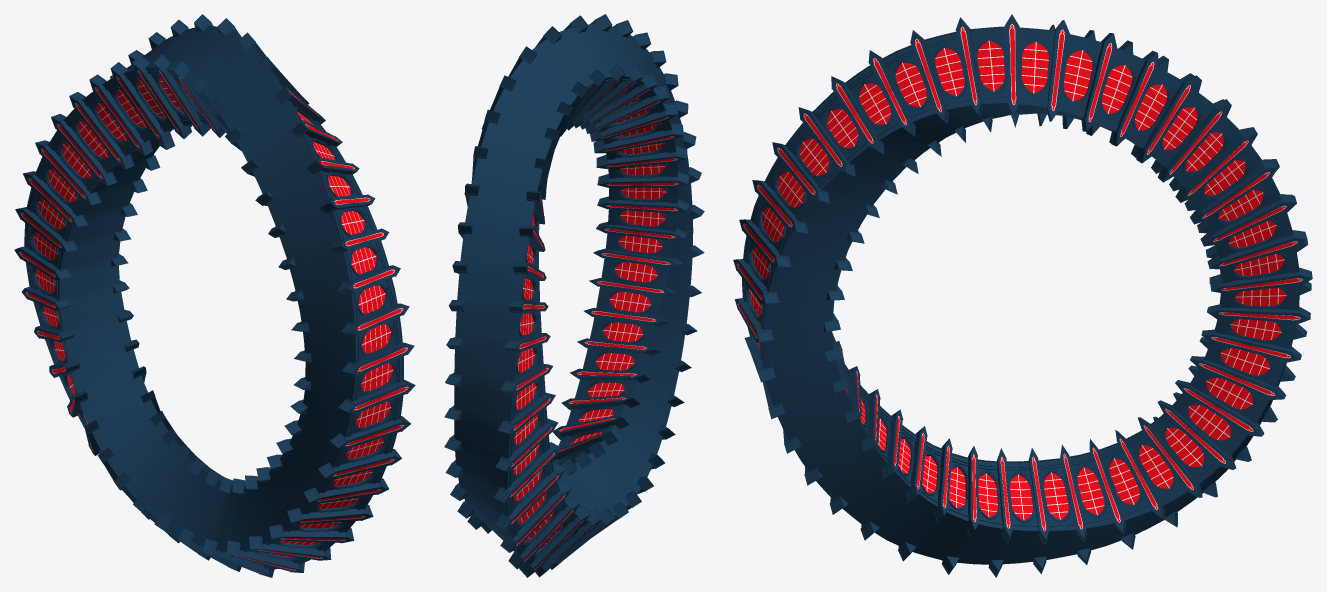
File: moebius_3.fbx
3 views of the same model, side by side, from view 1: azimuth 30°, elevation 25°; view 2: azimuth 150°, elevation 25°; view 3: azimuth 270°, elevation 25° (orthographic). The views are drawn at different scales.
Parts seen in each view (by area): view 1: moebius_3rd; view 2: moebius_3rd; view 3: moebius_3rd.
Part boxes in pixels (left/top/right/bottom): moebius_3rd: left=14, top=14, right=415, bottom=577; moebius_3rd: left=444, top=14, right=704, bottom=577; moebius_3rd: left=733, top=14, right=1312, bottom=577.
Bounding box in the file's own units: 256 × 862 × 790.
